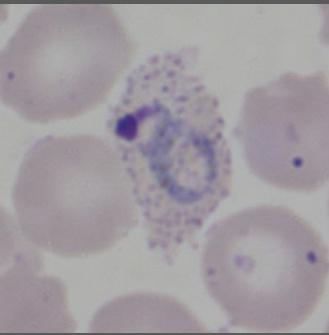Infected: (108, 52, 227, 260)
Uninfected: (201, 205, 323, 335), (0, 7, 132, 126), (15, 135, 135, 254), (236, 72, 329, 195)
